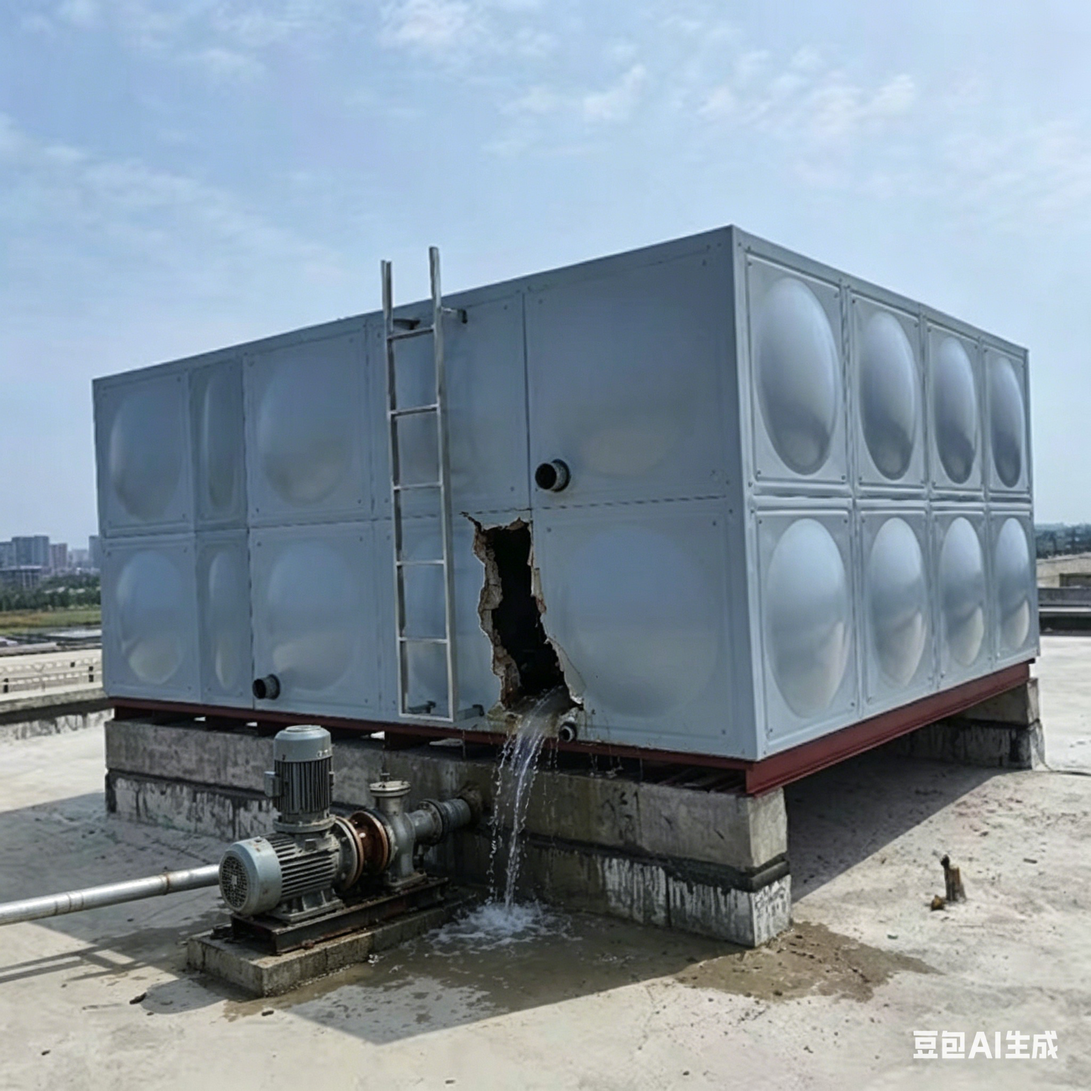Leakage: (465, 712, 598, 993), (616, 919, 911, 997), (353, 911, 463, 979)
